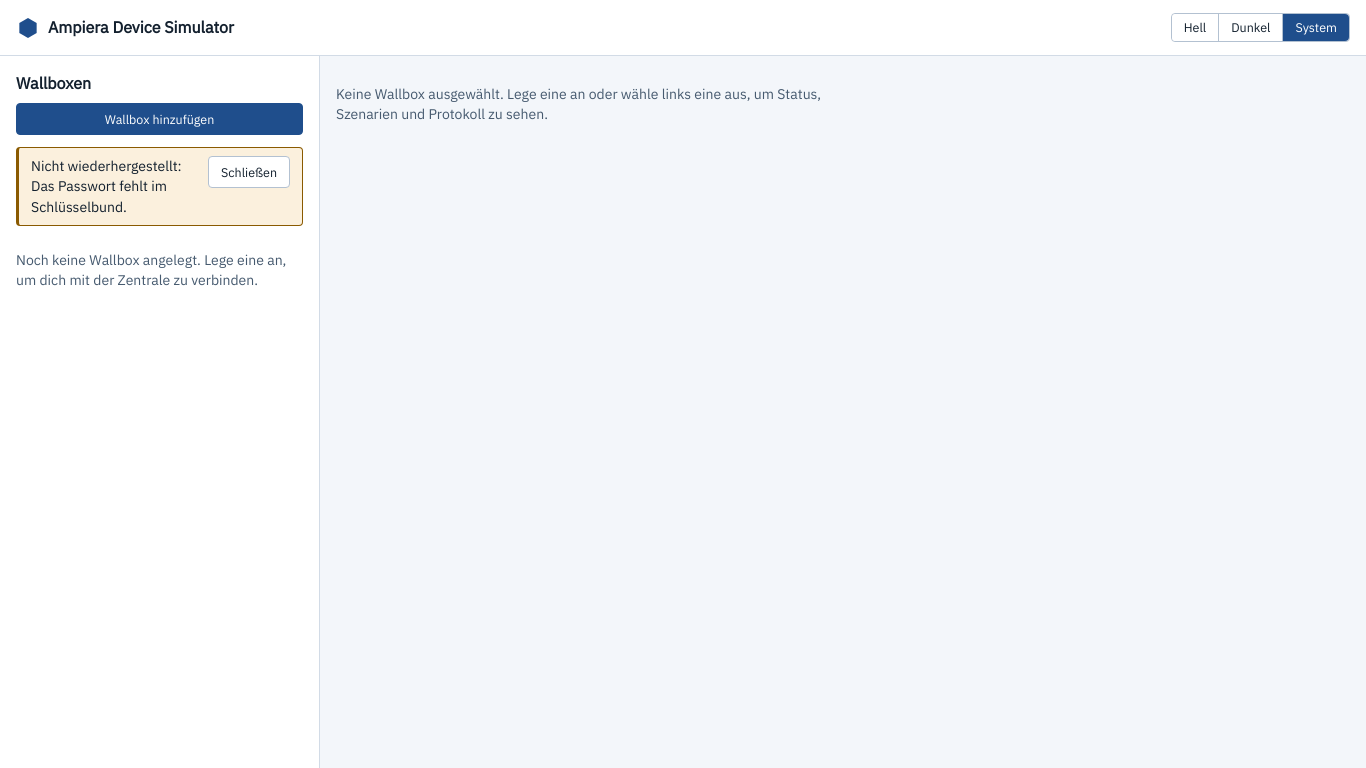
App › shows restore problems and lets the user dismiss them
The width and height of the screenshot is (1366, 768).
Expected: the text "Nicht wiederhergestellt: Das Passwort fehlt im Schlüsselbund." is shown, [31, 156, 200, 217]
Click the button "Schließen" at [249, 172], box [208, 156, 290, 188]
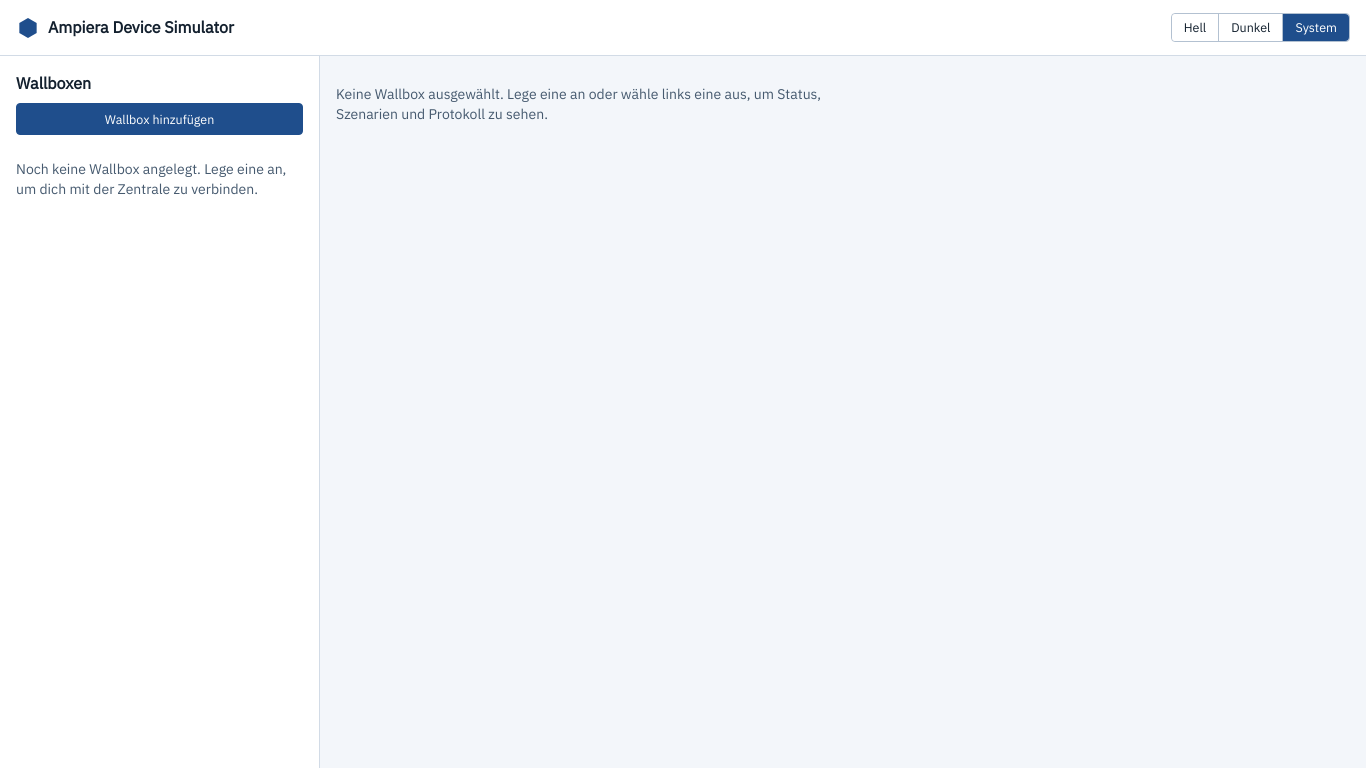
Expected: the text "Nicht wiederhergestellt" is gone
